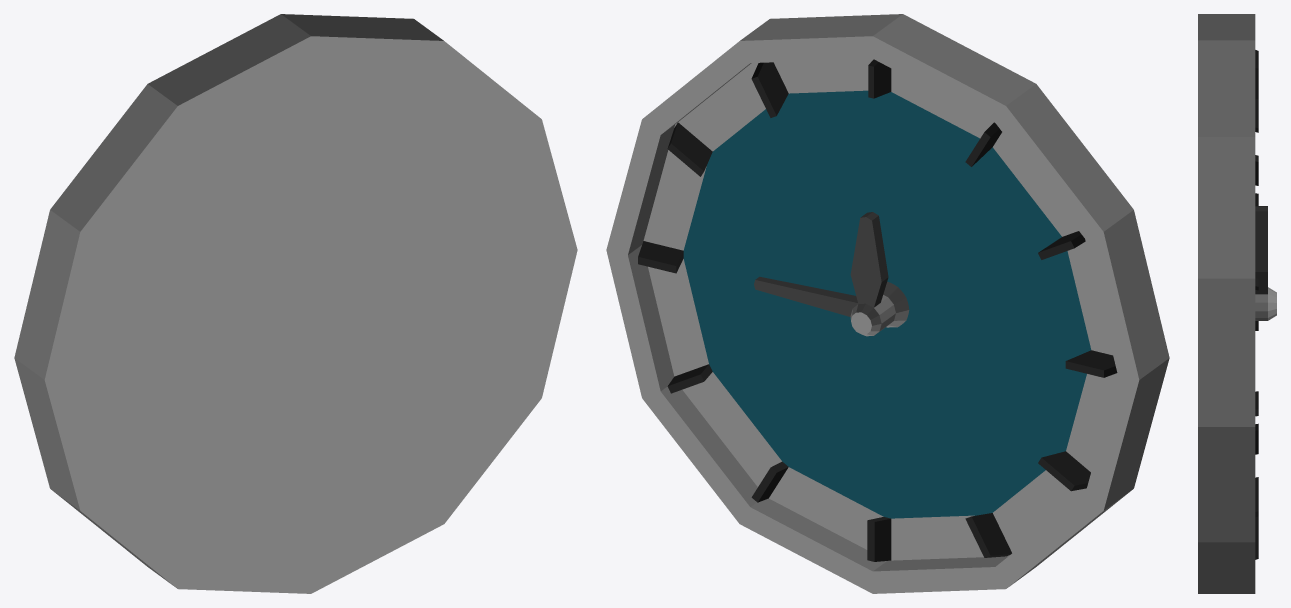
File: Wall Clock 1.fbx
The picture shows the model from 3 angles, left to right: view 1: azimuth 30°, elevation 25°; view 2: azimuth 150°, elevation 25°; view 3: azimuth 270°, elevation 25°; orthographic projection. The views are drawn at different scales.
Visible parts, largest first — view 1: Node 0; view 2: Node 0, Node 1, Node 2; view 3: Node 0, Node 1.
Boxes of the visible parts, x1=… form: Node 0: x1=14, y1=14, x2=577, y2=593; Node 0: x1=606, y1=14, x2=1169, y2=593; Node 1: x1=850, y1=212, x2=888, y2=336; Node 2: x1=754, y1=276, x2=895, y2=328; Node 0: x1=1198, y1=14, x2=1258, y2=593; Node 1: x1=1255, y1=206, x2=1276, y2=320.
Bounding box in the file's own units: 0.1185 × 0.8743 × 0.8743.
